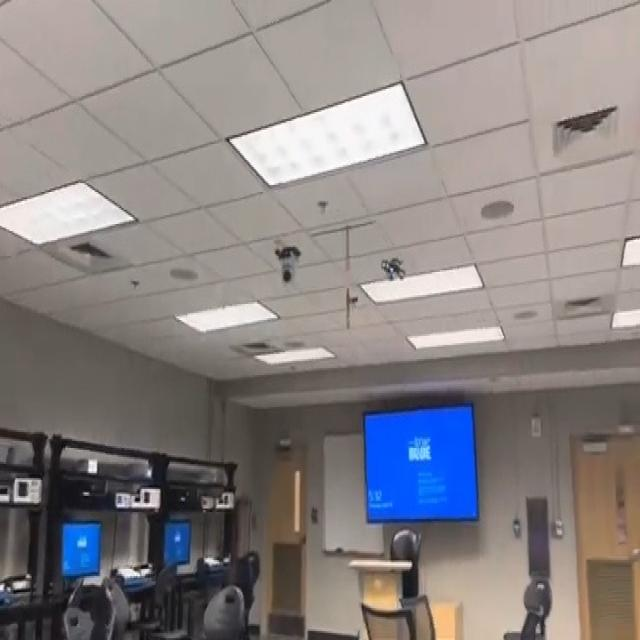drone: (374, 240, 409, 294)
